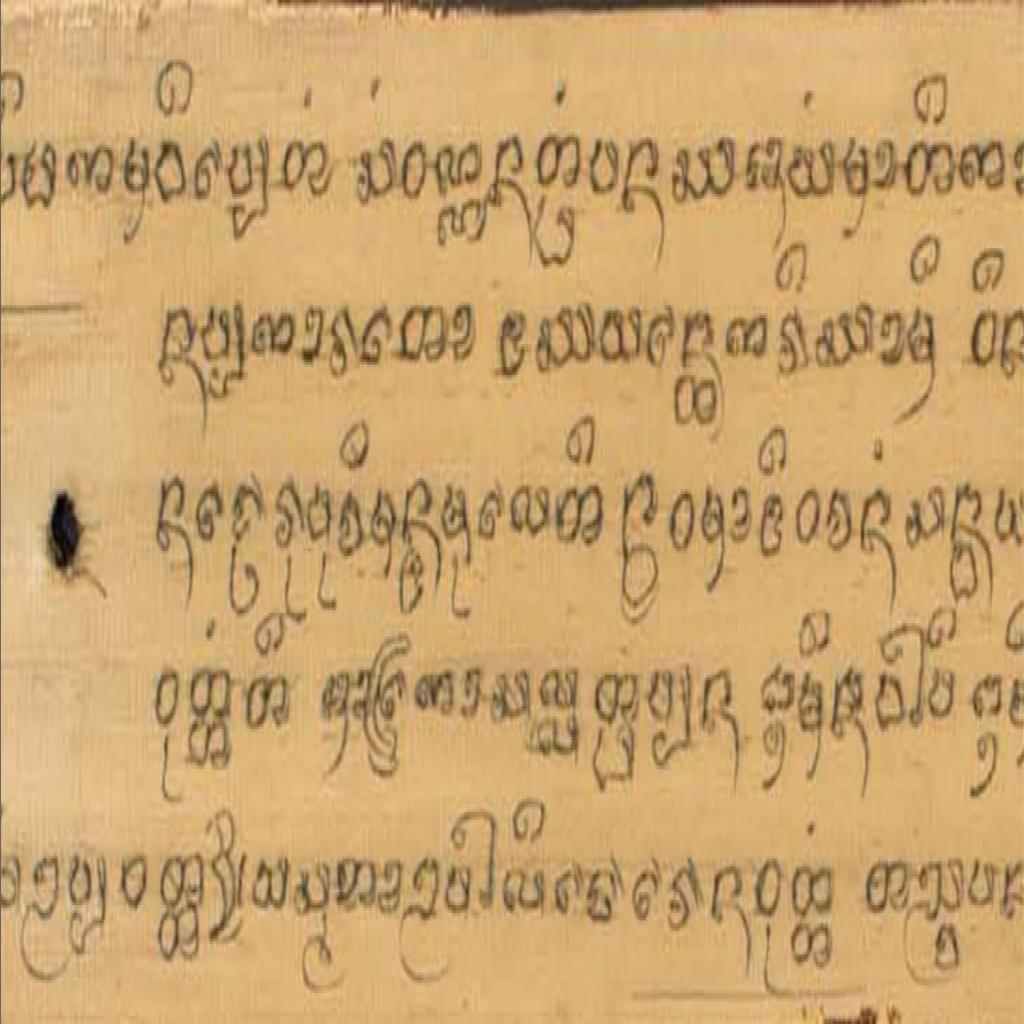LN024: (68, 850, 95, 912)
